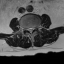CCS_normal: (29, 25, 31, 36)
LFS_stenosis: (33, 24, 36, 31)
LLS_normal: (31, 25, 33, 33)
RFS_stenosis: (24, 25, 27, 33)
RLS_normal: (27, 25, 29, 33)
